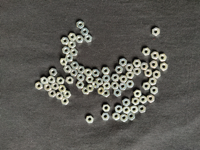nut: (152, 27, 161, 36), (151, 51, 160, 60), (150, 60, 159, 69), (133, 67, 142, 76), (142, 48, 151, 56), (153, 70, 161, 79), (149, 77, 157, 86), (151, 86, 159, 95), (147, 95, 155, 104), (132, 97, 140, 106), (131, 105, 139, 114), (115, 105, 123, 114), (120, 58, 128, 67), (115, 66, 124, 74), (61, 37, 70, 45), (70, 48, 78, 57), (65, 54, 74, 62), (76, 81, 85, 89), (49, 68, 58, 76), (159, 54, 167, 62), (161, 63, 169, 71), (145, 69, 153, 77), (141, 63, 149, 71), (143, 82, 151, 90), (139, 105, 147, 113), (134, 90, 142, 98), (128, 113, 136, 121), (123, 99, 131, 107), (123, 107, 131, 115), (113, 113, 121, 121), (102, 113, 110, 121), (86, 116, 94, 124), (134, 60, 142, 68), (126, 64, 134, 72), (120, 75, 128, 83), (119, 83, 127, 91), (112, 74, 120, 82), (111, 82, 119, 90), (114, 89, 122, 97), (102, 67, 110, 75), (103, 82, 111, 90), (92, 69, 100, 77), (86, 85, 94, 93), (82, 87, 90, 95), (86, 76, 94, 84), (77, 66, 85, 74), (81, 28, 89, 36), (85, 35, 93, 43), (76, 35, 84, 43), (69, 33, 77, 41), (68, 41, 76, 49), (60, 58, 68, 66), (77, 74, 85, 82), (70, 69, 78, 77), (66, 76, 74, 84), (57, 77, 65, 85), (59, 85, 67, 93), (61, 98, 69, 106), (48, 90, 56, 98), (48, 76, 56, 84), (44, 84, 52, 92), (35, 82, 43, 90), (121, 114, 128, 123), (126, 72, 135, 79), (126, 81, 135, 88), (140, 96, 147, 104), (103, 105, 111, 112), (103, 75, 111, 82), (103, 90, 110, 98), (96, 78, 103, 86), (85, 69, 93, 76), (77, 21, 84, 29), (63, 47, 70, 55), (71, 62, 79, 69), (64, 66, 72, 73), (64, 91, 71, 99), (56, 93, 64, 100), (51, 83, 59, 90), (41, 77, 48, 85), (98, 88, 105, 95), (93, 81, 100, 88)
